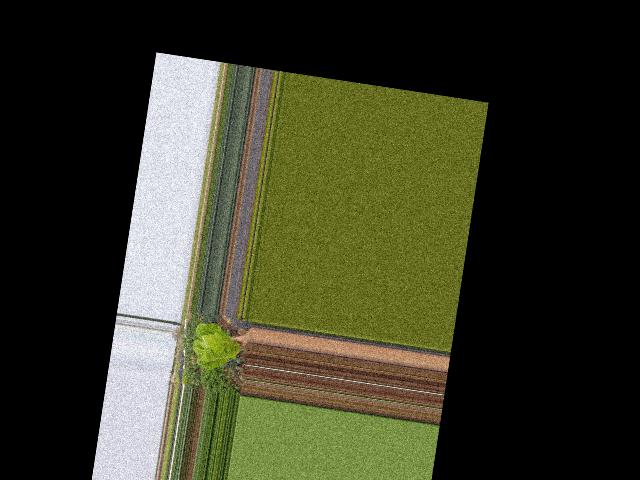lettuce: (189, 318, 247, 375)
